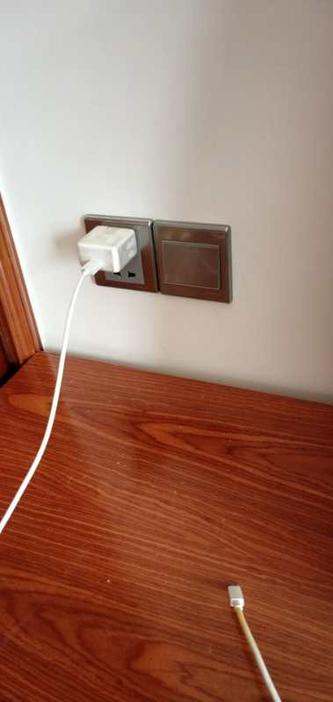switch: (157, 233, 226, 294)
